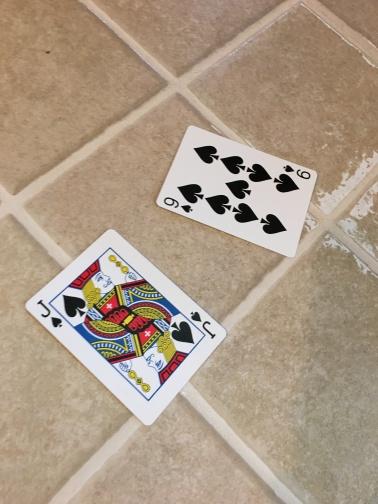jack: (24, 227, 228, 423)
nine: (152, 126, 318, 257)
